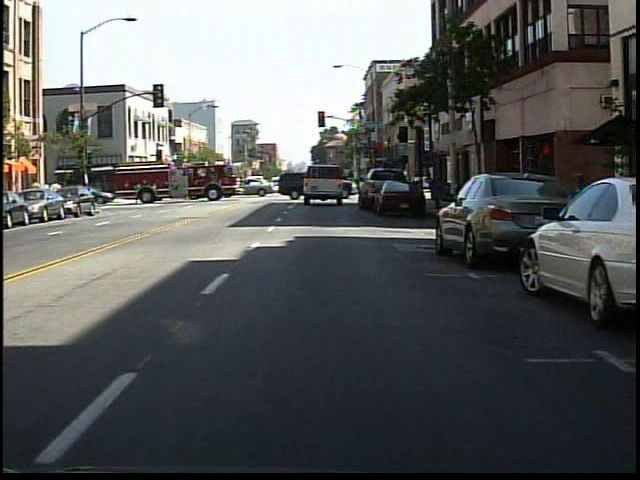car: (517, 172, 640, 326), (434, 167, 516, 271), (376, 177, 426, 215), (303, 165, 347, 205)
strada: (1, 221, 634, 471)
